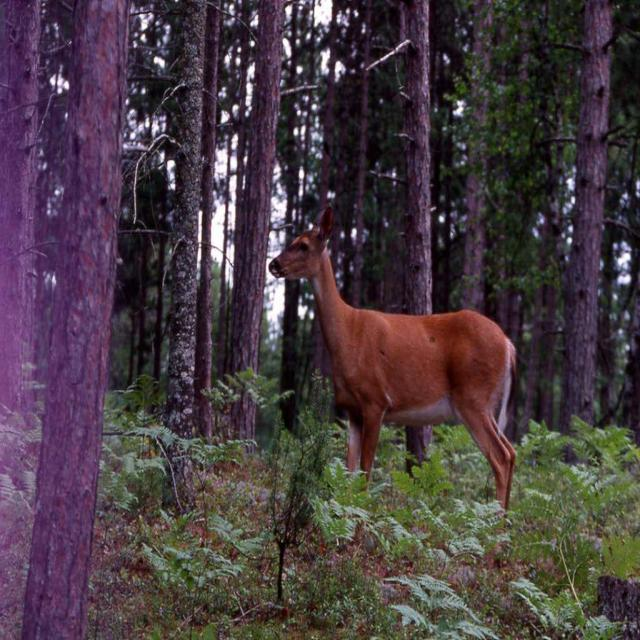Deer: (269, 199, 516, 566)
